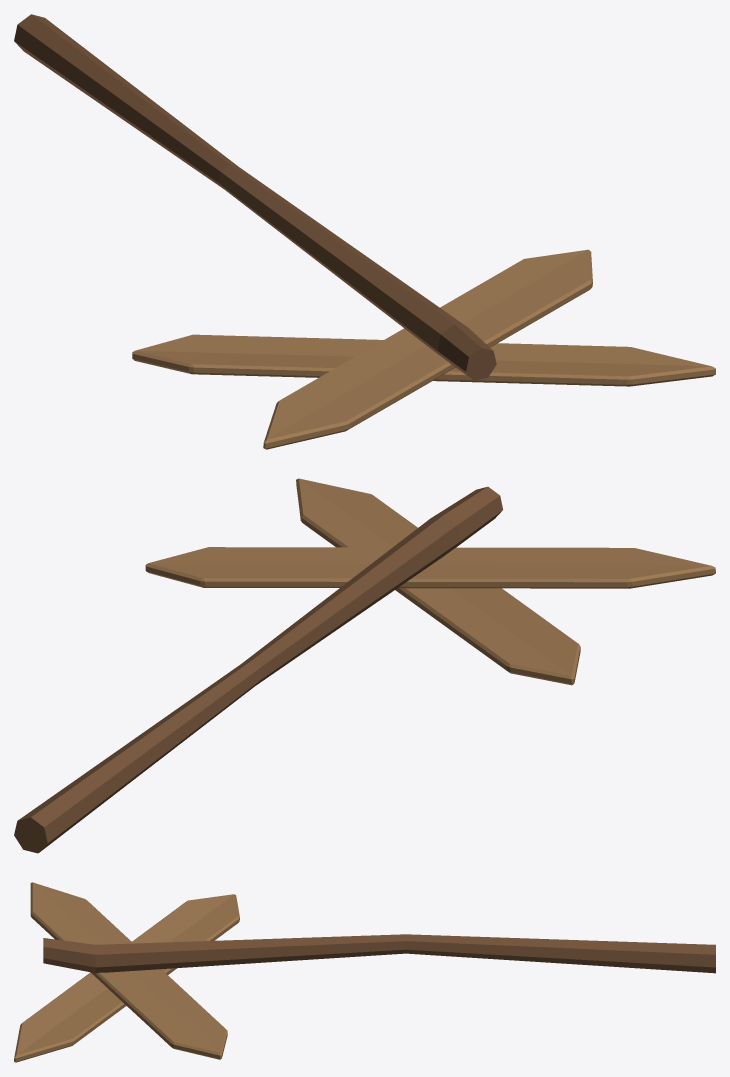
File: Panel_10.fbx
The picture shows the model from 3 angles, top to bottom: view 1: azimuth 30°, elevation 25°; view 2: azimuth 150°, elevation 25°; view 3: azimuth 270°, elevation 25°; orthographic projection. The views are drawn at different scales.
Parts seen in each view (by area): view 1: Poteau 1*2fleche chemin de fer LOW Grand.002; view 2: Poteau 1*2fleche chemin de fer LOW Grand.002; view 3: Poteau 1*2fleche chemin de fer LOW Grand.002.
Part boxes in pixels (x1,y1,x2,y2): Poteau 1*2fleche chemin de fer LOW Grand.002: (14,14,715,449); Poteau 1*2fleche chemin de fer LOW Grand.002: (14,478,715,853); Poteau 1*2fleche chemin de fer LOW Grand.002: (14,882,715,1062).
Bounding box in the file's own units: 91.7 × 13.41 × 167.
